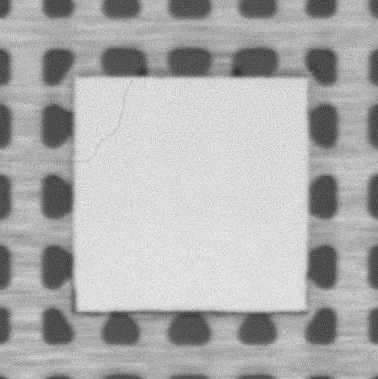DIE_CRACK: (73, 79, 133, 164)
